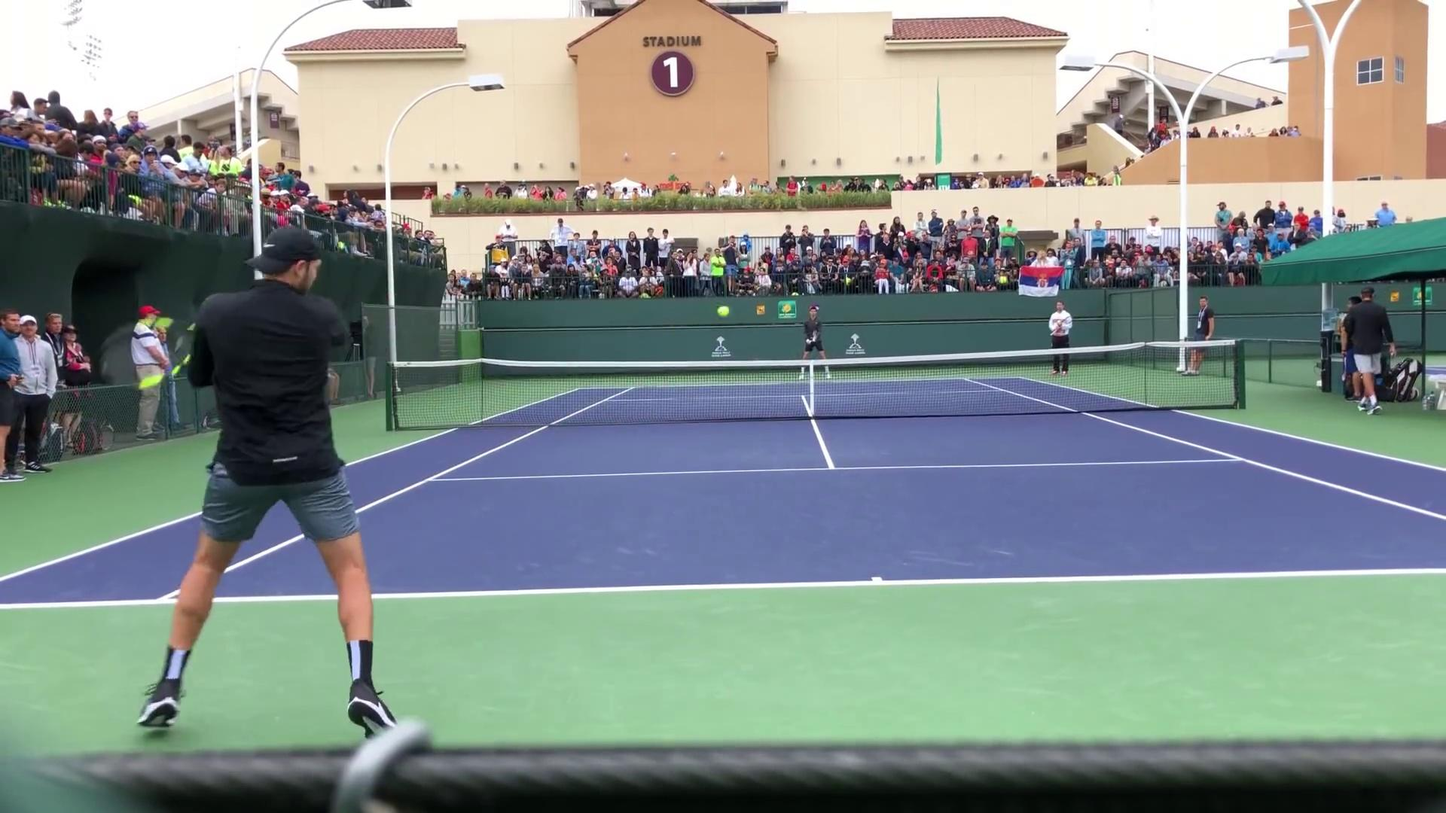ball: (715, 303, 731, 319)
